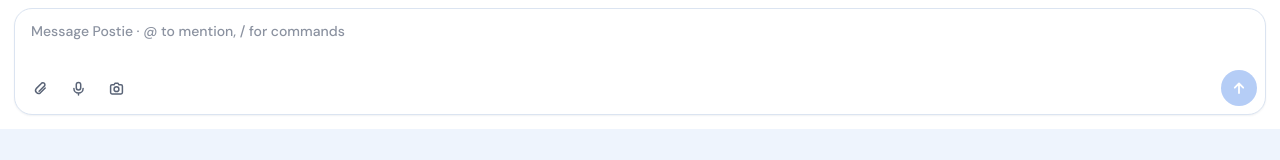
Test: @ mentions in a one-to-one chat › filters as it is typed, moves with the arrows, and completes with Enter
Type "ask @l" into the text box labelled "Message Postie · @ to mention, / for commands" at (640, 39), box [15, 9, 1265, 68]
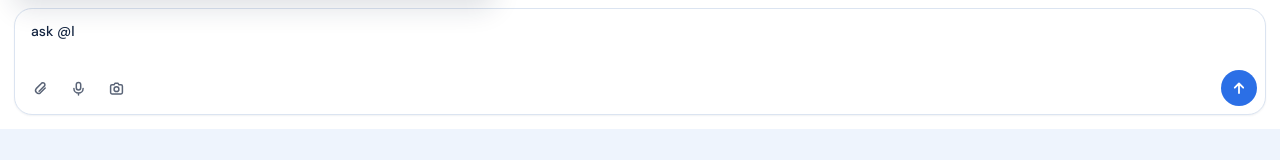
Replace the text in the text box named "Message Postie" with "ask @" at (640, 39), box [15, 9, 1265, 68]
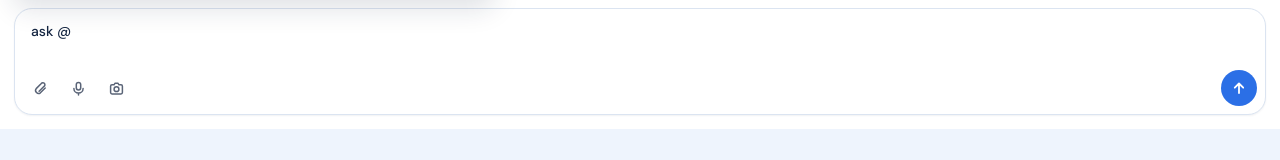
Press ArrowDown in the text box named "Message Postie", box [15, 9, 1265, 68]
Press Enter in the text box named "Message Postie", box [15, 9, 1265, 68]
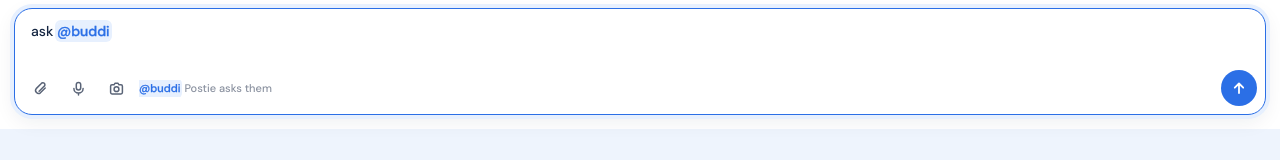
Result: the text box named "Message Postie" holds "ask @buddi " at [15, 9, 1265, 68]
